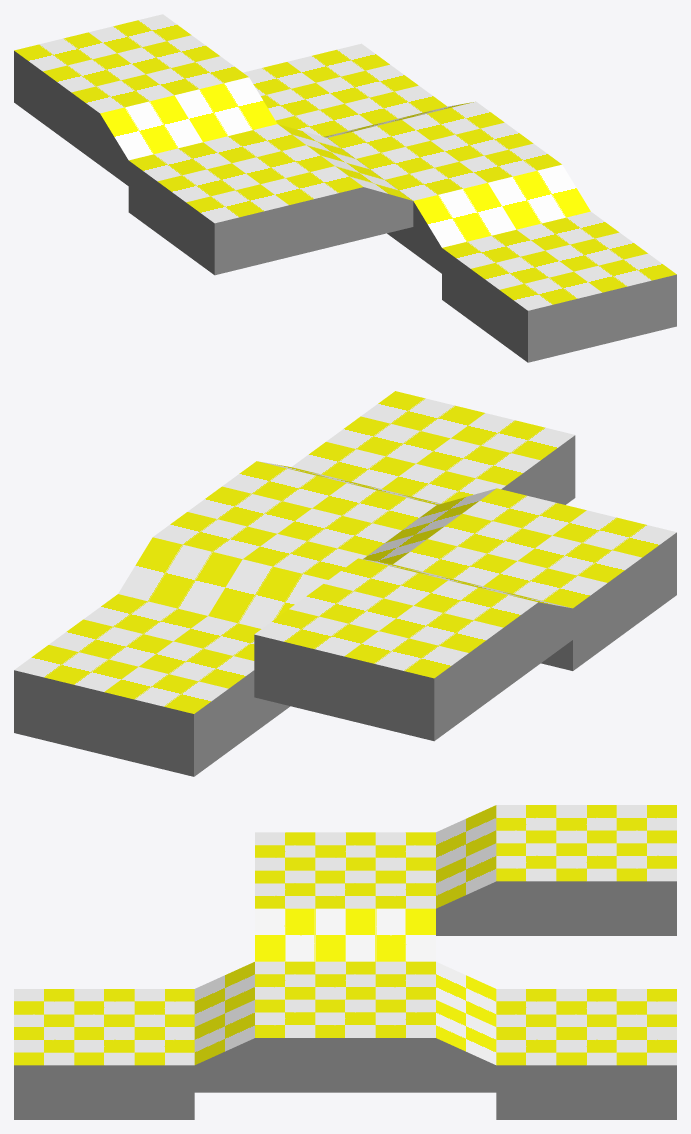
The model's file is map1.fbx.
3 views of the same model, one above another, from view 1: azimuth 30°, elevation 25°; view 2: azimuth 150°, elevation 25°; view 3: azimuth 270°, elevation 25° (orthographic). The views are drawn at different scales.
Visible parts, largest first — view 1: cube3x4:cube2x2:pCube2, cube3x9:cube2x2:pCube2, cube2x1_slope1:cube2x1:pCube2, cube2x1_slope:cube2x1:pCube2, cube3x9:cube2x1:pCube2, cube3x4:cube2x3:pCube2, cube3x3:cube2x1:pCube2, cube3x3:cube2x3:pCube2, cube3x9:cube2x3:pCube2, cube3x3:cube2x2:pCube2, cube3x4:cube2x1:pCube2, cube3x5:cube2x2:pCube2 (+6 smaller); view 2: cube3x3:cube2x3:pCube2, cube3x8:cube2x3:pCube2, cube2x1_slope2:cube2x1:pCube2, cube3x4:cube2x3:pCube2, cube3x4:cube2x1:pCube2, cube3x3:cube2x2:pCube2, cube3x4:cube2x2:pCube2, cube3x3:cube2x1:pCube2, cube3x9:cube2x2:pCube2, cube3x8:cube2x1:pCube2, cube3x9:cube2x1:pCube2, cube3x5:cube2x2:pCube2 (+6 smaller); view 3: cube2x1_2_slope:cube2x1_2:pCube2, cube3x5:cube2x1:pCube2, cube3x5:cube2x3:pCube2, cube3x5:cube2x2:pCube2, cube3x3:cube2x1:pCube2, cube3x3:cube2x2:pCube2, cube3x3:cube2x3:pCube2, cube3x8:cube2x2:pCube2, cube3x8:cube2x1:pCube2, cube3x8:cube2x3:pCube2, cube3x9:cube2x3:pCube2, cube3x9:cube2x1:pCube2 (+7 smaller).
Part boxes in pixels (bbox=[...]): cube3x4:cube2x2:pCube2: bbox=[186, 166, 363, 275]; cube3x9:cube2x2:pCube2: bbox=[499, 253, 676, 362]; cube2x1_slope1:cube2x1:pCube2: bbox=[413, 164, 590, 273]; cube2x1_slope:cube2x1:pCube2: bbox=[100, 77, 277, 185]; cube3x9:cube2x1:pCube2: bbox=[470, 232, 647, 341]; cube3x4:cube2x3:pCube2: bbox=[128, 124, 305, 232]; cube3x3:cube2x1:pCube2: bbox=[42, 35, 219, 143]; cube3x3:cube2x3:pCube2: bbox=[14, 14, 191, 122]; cube3x9:cube2x3:pCube2: bbox=[442, 211, 619, 320]; cube3x3:cube2x2:pCube2: bbox=[71, 56, 248, 164]; cube3x4:cube2x1:pCube2: bbox=[157, 145, 334, 253]; cube3x5:cube2x2:pCube2: bbox=[385, 143, 561, 252]; cube3x3:cube2x3:pCube2: bbox=[254, 609, 468, 741]; cube3x8:cube2x3:pCube2: bbox=[14, 645, 228, 776]; cube2x1_slope2:cube2x1:pCube2: bbox=[118, 537, 327, 628]; cube3x4:cube2x3:pCube2: bbox=[393, 539, 607, 670]; cube3x4:cube2x1:pCube2: bbox=[428, 513, 642, 645]; cube3x3:cube2x2:pCube2: bbox=[324, 558, 538, 689]; cube3x4:cube2x2:pCube2: bbox=[462, 488, 676, 619]; cube3x3:cube2x1:pCube2: bbox=[289, 584, 503, 715]; cube3x9:cube2x2:pCube2: bbox=[361, 391, 575, 504]; cube3x8:cube2x1:pCube2: bbox=[49, 619, 263, 751]; cube3x9:cube2x1:pCube2: bbox=[326, 416, 540, 498]; cube3x5:cube2x2:pCube2: bbox=[222, 461, 436, 530]; cube2x1_2_slope:cube2x1_2:pCube2: bbox=[255, 908, 435, 961]; cube3x5:cube2x1:pCube2: bbox=[315, 961, 375, 1092]; cube3x5:cube2x3:pCube2: bbox=[375, 961, 435, 1092]; cube3x5:cube2x2:pCube2: bbox=[255, 961, 315, 1092]; cube3x3:cube2x1:pCube2: bbox=[556, 805, 616, 935]; cube3x3:cube2x2:pCube2: bbox=[496, 805, 556, 935]; cube3x3:cube2x3:pCube2: bbox=[616, 805, 676, 935]; cube3x8:cube2x2:pCube2: bbox=[496, 989, 556, 1119]; cube3x8:cube2x1:pCube2: bbox=[556, 989, 616, 1119]; cube3x8:cube2x3:pCube2: bbox=[616, 989, 676, 1119]; cube3x9:cube2x3:pCube2: bbox=[134, 989, 194, 1119]; cube3x9:cube2x1:pCube2: bbox=[74, 989, 134, 1119].
Bounding box in the file's own units: 7 × 2.5 × 11.
39 materials, 38 textured.
